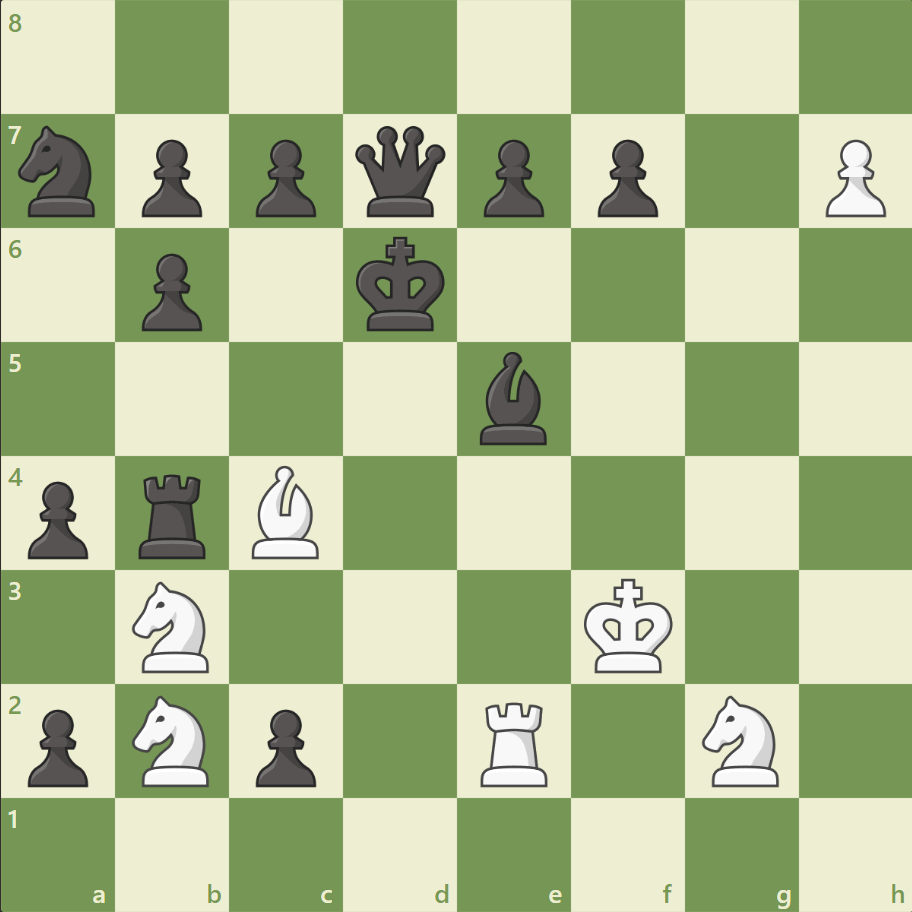B: (244, 460, 328, 563)
K: (579, 571, 679, 679)
N: (124, 688, 222, 791), (124, 575, 222, 677), (692, 688, 789, 791)
P: (815, 132, 889, 223)
R: (473, 693, 556, 790)
b: (471, 347, 555, 449)
k: (351, 231, 451, 339)
n: (11, 121, 108, 223)
p: (133, 132, 208, 223), (247, 132, 322, 223), (474, 132, 549, 223), (133, 246, 208, 337), (20, 473, 95, 564), (20, 700, 95, 791), (247, 700, 322, 791), (588, 132, 662, 223)
q: (351, 122, 450, 222)
r: (133, 466, 215, 563)
